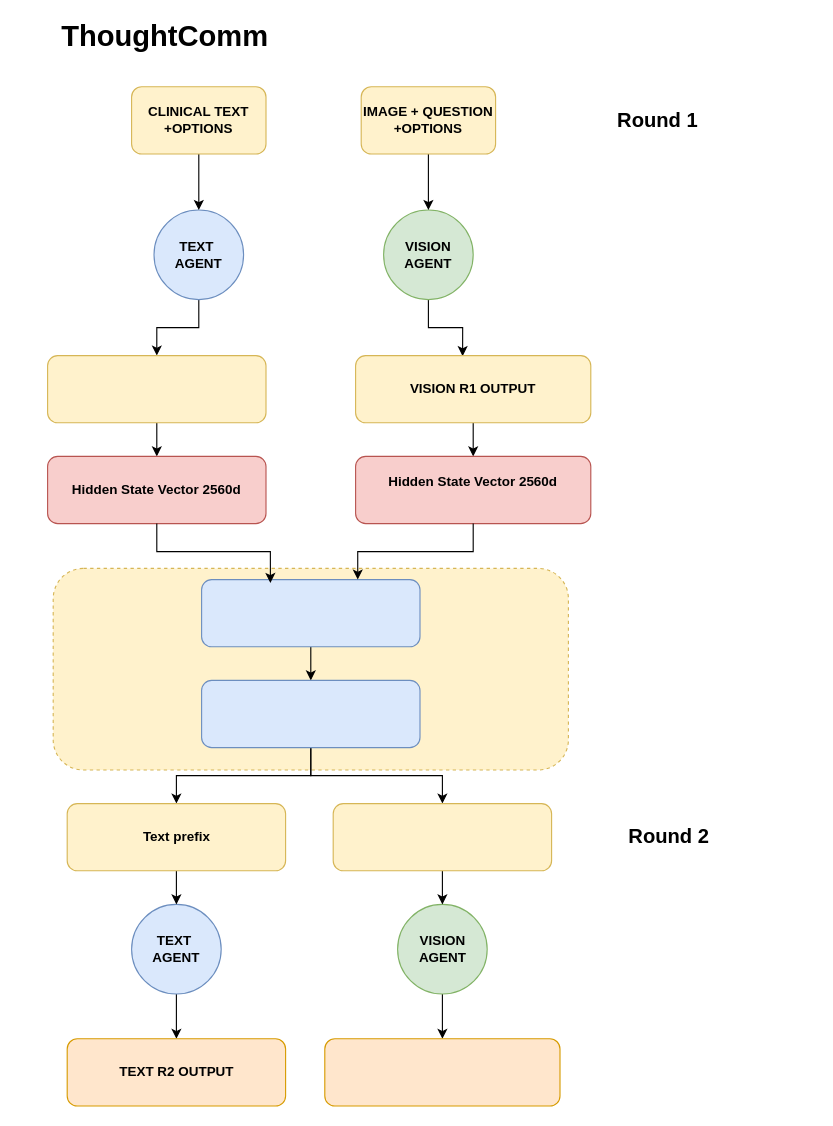
Image size: 833x1126. Some labels were removed from this diagram. Here are the shapes that lost their labels. From the top down, the centre of each, then its label:
point 156,388: TEXT R1 OUTPUT
point 310,612: Autoencoder 5120d → 512 latent thoughts
point 310,713: Prefix Adapter personalise thoughts per agent
point 442,836: Vision Prefix
point 442,1072: VISION R2 OUTPUT
